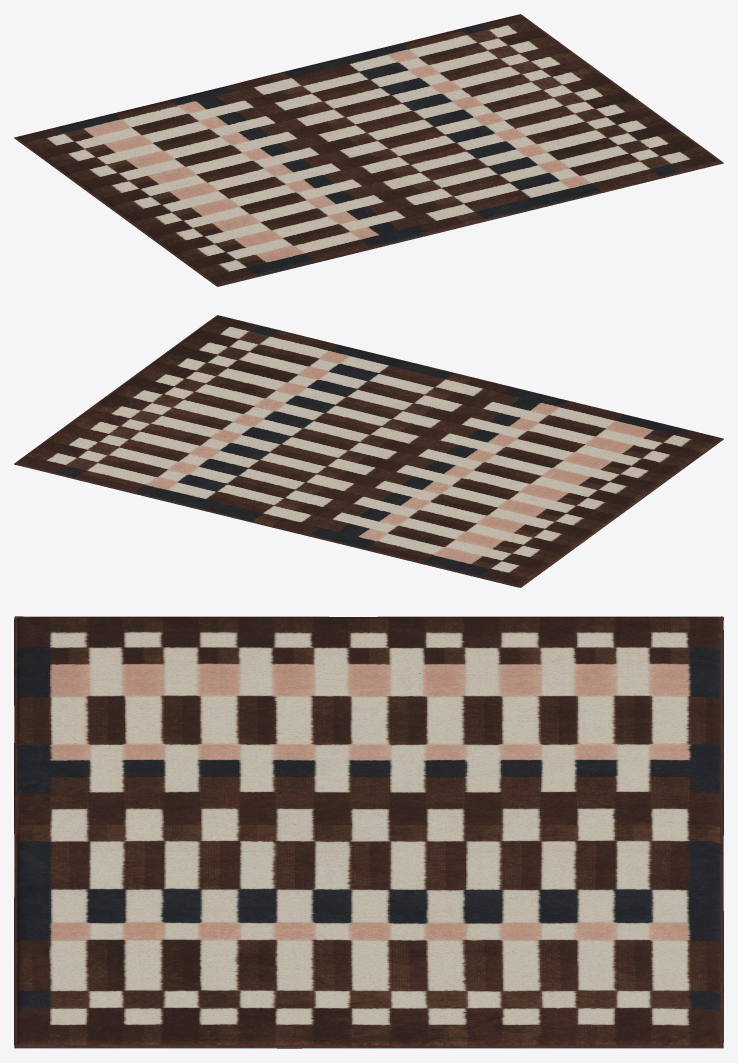
The model's file is markblamme_dywan_z_krotkim_wosiem_90625705.glb.
3 views of the same model, one above another, from view 1: azimuth 30°, elevation 25°; view 2: azimuth 150°, elevation 25°; view 3: azimuth 270°, elevation 25° (orthographic). The views are drawn at different scales.
Parts seen in each view (by area): view 1: markblamme_dywan_z_krotkim_wosiem_90625705; view 2: markblamme_dywan_z_krotkim_wosiem_90625705; view 3: markblamme_dywan_z_krotkim_wosiem_90625705.
Part boxes in pixels (<box>): markblamme_dywan_z_krotkim_wosiem_90625705: <box>14,14,723,286</box>; markblamme_dywan_z_krotkim_wosiem_90625705: <box>14,315,723,587</box>; markblamme_dywan_z_krotkim_wosiem_90625705: <box>14,616,723,1048</box>.
Bounding box in the file's own units: 2.3 × 0.0111 × 1.6.
Materials: 1 (1 with a texture image).
